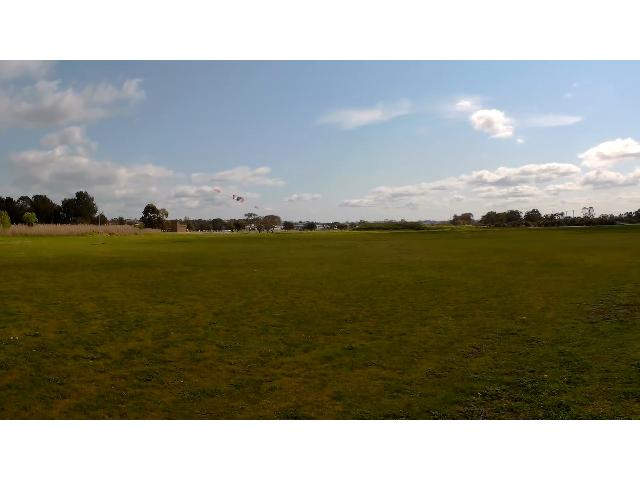Anti-Drone: (214, 188, 260, 209)
